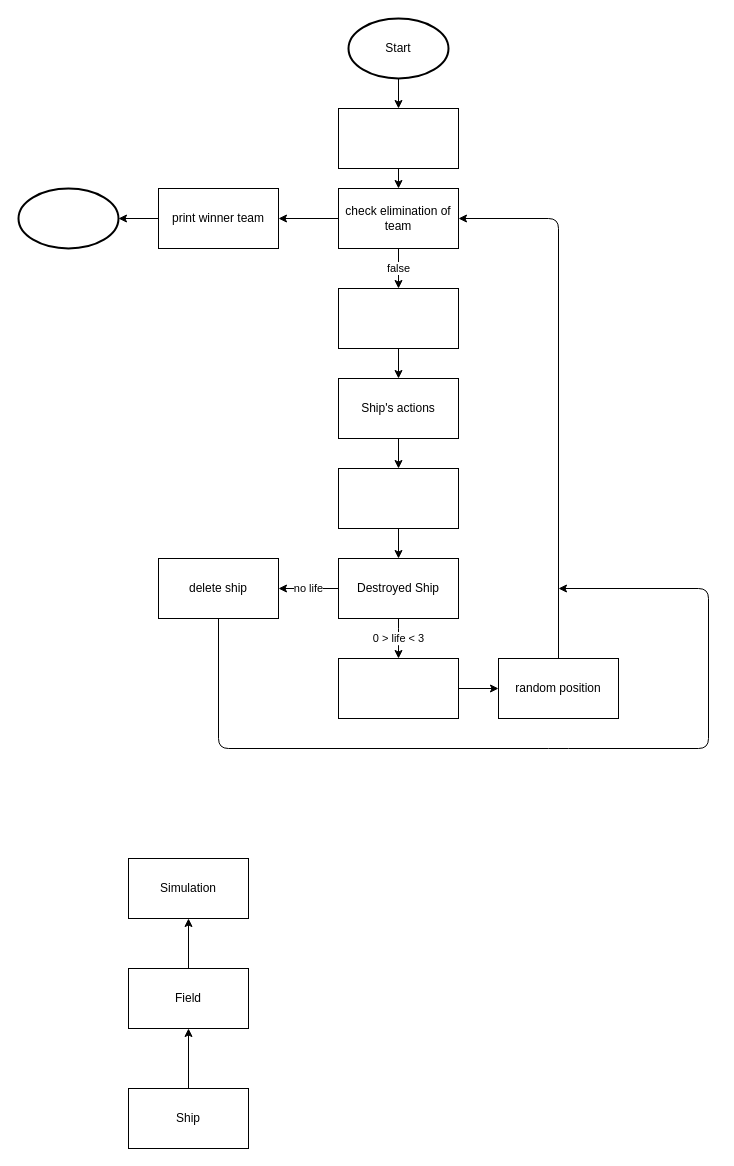
This 734x1166 diagram has some shape labels left out. The shapes that lost their labels are listed below. From the top down, each one's centre as x and y in pixels, then its label:
the point at 398,138: Ships in battlefield with random Position
the point at 68,218: End
the point at 398,318: iterations+=1
the point at 398,498: check available update ship
the point at 398,688: Queue
